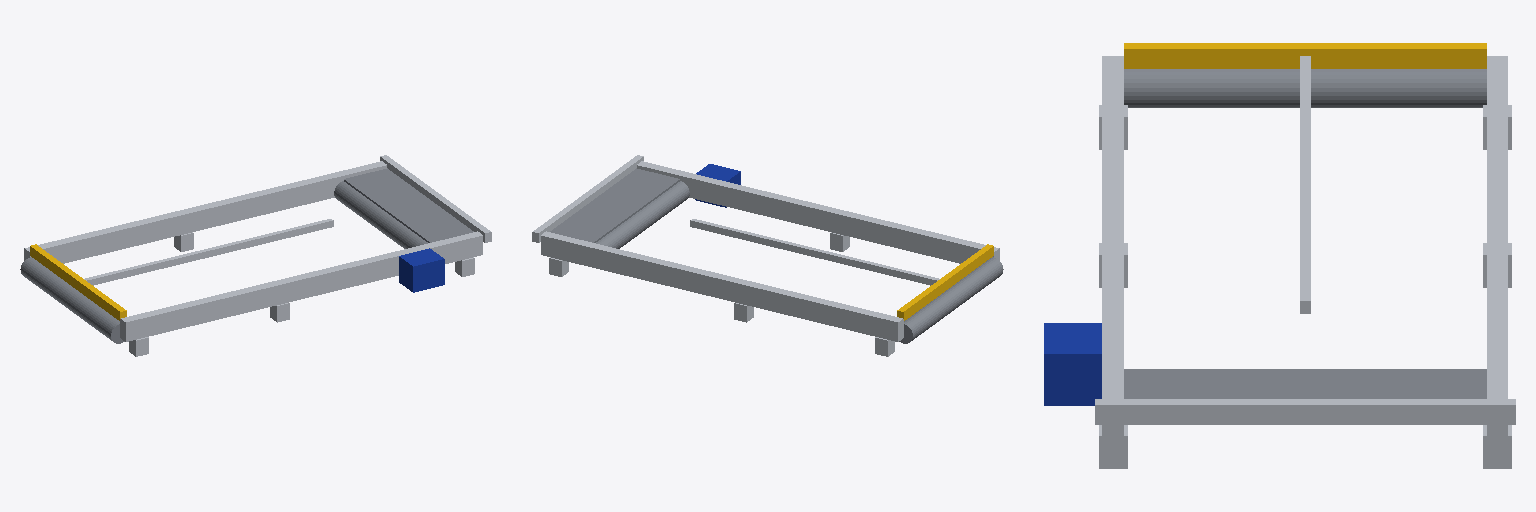
URDF robot description (conveyor):
<?xml version="1.0"?>
<!-- SPDX-License-Identifier: GPL-3.0-or-later OR LicenseRef-RobotIK-Commercial
     Copyright (c) 2020-2026 Quentin Quadrat
     Frame of the conveyor of the DualArm cell: two lanes split by a
     divider, an end stop on the near side, an infeed table on the far side.
     The belts of the lanes are not here: they are conveyor belts of the
     cell (fixed box bodies of the world file, x from 0.02 to 1.00).
     Base frame: origin on the floor at the middle of the end stop, x along
     the belt toward the infeed table, z up. The belt top is 0.10 m high. -->
<robot name="conveyor">
  <material name="steel"><color rgba="0.55 0.57 0.60 1"/></material>
  <material name="aluminium"><color rgba="0.78 0.80 0.83 1"/></material>
  <material name="yellow"><color rgba="0.95 0.75 0.10 1"/></material>
  <material name="blue"><color rgba="0.15 0.30 0.70 1"/></material>

  <link name="conveyor_base">
    <inertial>
      <origin xyz="0.5 0 0.05" rpy="0 0 0"/>
      <mass value="40.0"/>
      <inertia ixx="1.0" ixy="0.0" ixz="0.0" iyy="1.0" iyz="0.0" izz="1.0"/>
    </inertial>
    <visual>
      <!-- infeed_table -->
      <origin xyz="1.0700 0.0000 0.0950" rpy="0.0000 0.0000 0.0000"/>
      <geometry><box size="0.1400 0.5000 0.0100"/></geometry>
      <material name="steel"/>
    </visual>
    <collision>
      <!-- infeed_table -->
      <origin xyz="1.0700 0.0000 0.0950" rpy="0.0000 0.0000 0.0000"/>
      <geometry><box size="0.1400 0.5000 0.0100"/></geometry>
    </collision>
    <visual>
      <!-- back_stop -->
      <origin xyz="1.1500 0.0000 0.1050" rpy="0.0000 0.0000 0.0000"/>
      <geometry><box size="0.0200 0.5800 0.0300"/></geometry>
      <material name="aluminium"/>
    </visual>
    <collision>
      <!-- back_stop -->
      <origin xyz="1.1500 0.0000 0.1050" rpy="0.0000 0.0000 0.0000"/>
      <geometry><box size="0.0200 0.5800 0.0300"/></geometry>
    </collision>
    <visual>
      <!-- end_stop -->
      <origin xyz="0.0100 0.0000 0.1150" rpy="0.0000 0.0000 0.0000"/>
      <geometry><box size="0.0200 0.5000 0.0300"/></geometry>
      <material name="yellow"/>
    </visual>
    <collision>
      <!-- end_stop -->
      <origin xyz="0.0100 0.0000 0.1150" rpy="0.0000 0.0000 0.0000"/>
      <geometry><box size="0.0200 0.5000 0.0300"/></geometry>
    </collision>
    <visual>
      <!-- divider -->
      <origin xyz="0.4200 0.0000 0.1100" rpy="0.0000 0.0000 0.0000"/>
      <geometry><box size="0.8000 0.0150 0.0200"/></geometry>
      <material name="aluminium"/>
    </visual>
    <collision>
      <!-- divider -->
      <origin xyz="0.4200 0.0000 0.1100" rpy="0.0000 0.0000 0.0000"/>
      <geometry><box size="0.8000 0.0150 0.0200"/></geometry>
    </collision>
    <visual>
      <!-- side_left -->
      <origin xyz="0.5700 -0.2650 0.0800" rpy="0.0000 0.0000 0.0000"/>
      <geometry><box size="1.1400 0.0300 0.0600"/></geometry>
      <material name="aluminium"/>
    </visual>
    <collision>
      <!-- side_left -->
      <origin xyz="0.5700 -0.2650 0.0800" rpy="0.0000 0.0000 0.0000"/>
      <geometry><box size="1.1400 0.0300 0.0600"/></geometry>
    </collision>
    <visual>
      <!-- leg -->
      <origin xyz="0.0500 -0.2650 0.0250" rpy="0.0000 0.0000 0.0000"/>
      <geometry><box size="0.0400 0.0400 0.0500"/></geometry>
      <material name="aluminium"/>
    </visual>
    <visual>
      <!-- leg -->
      <origin xyz="0.5000 -0.2650 0.0250" rpy="0.0000 0.0000 0.0000"/>
      <geometry><box size="0.0400 0.0400 0.0500"/></geometry>
      <material name="aluminium"/>
    </visual>
    <visual>
      <!-- leg -->
      <origin xyz="1.0900 -0.2650 0.0250" rpy="0.0000 0.0000 0.0000"/>
      <geometry><box size="0.0400 0.0400 0.0500"/></geometry>
      <material name="aluminium"/>
    </visual>
    <visual>
      <!-- side_right -->
      <origin xyz="0.5700 0.2650 0.0800" rpy="0.0000 0.0000 0.0000"/>
      <geometry><box size="1.1400 0.0300 0.0600"/></geometry>
      <material name="aluminium"/>
    </visual>
    <collision>
      <!-- side_right -->
      <origin xyz="0.5700 0.2650 0.0800" rpy="0.0000 0.0000 0.0000"/>
      <geometry><box size="1.1400 0.0300 0.0600"/></geometry>
    </collision>
    <visual>
      <!-- leg -->
      <origin xyz="0.0500 0.2650 0.0250" rpy="0.0000 0.0000 0.0000"/>
      <geometry><box size="0.0400 0.0400 0.0500"/></geometry>
      <material name="aluminium"/>
    </visual>
    <visual>
      <!-- leg -->
      <origin xyz="0.5000 0.2650 0.0250" rpy="0.0000 0.0000 0.0000"/>
      <geometry><box size="0.0400 0.0400 0.0500"/></geometry>
      <material name="aluminium"/>
    </visual>
    <visual>
      <!-- leg -->
      <origin xyz="1.0900 0.2650 0.0250" rpy="0.0000 0.0000 0.0000"/>
      <geometry><box size="0.0400 0.0400 0.0500"/></geometry>
      <material name="aluminium"/>
    </visual>
    <visual>
      <!-- roller -->
      <origin xyz="0.0000 0.0000 0.0640" rpy="1.5708 0.0000 0.0000"/>
      <geometry><cylinder radius="0.0300" length="0.5000"/></geometry>
      <material name="steel"/>
    </visual>
    <visual>
      <!-- roller -->
      <origin xyz="1.0000 0.0000 0.0640" rpy="1.5708 0.0000 0.0000"/>
      <geometry><cylinder radius="0.0300" length="0.5000"/></geometry>
      <material name="steel"/>
    </visual>
    <visual>
      <!-- motor -->
      <origin xyz="0.9200 -0.3200 0.0700" rpy="0.0000 0.0000 0.0000"/>
      <geometry><box size="0.1000 0.0800 0.0800"/></geometry>
      <material name="blue"/>
    </visual>
  </link>
</robot>

--- What the picture shows (computed from the rendered views, not written in the file) ---
The picture shows the robot from 3 angles, left to right: view 1: azimuth 30°, elevation 25°; view 2: azimuth 150°, elevation 25°; view 3: azimuth 270°, elevation 25°; orthographic projection.
Robot: conveyor — 1 links, 0 joints (none); root link conveyor_base; default pose: all joints at 0.
Visible links, largest first — view 1: conveyor_base; view 2: conveyor_base; view 3: conveyor_base.
Boxes of the visible links, bbox=[...] form: conveyor_base: bbox=[20, 155, 491, 356]; conveyor_base: bbox=[532, 155, 1003, 356]; conveyor_base: bbox=[1044, 43, 1515, 468].
Size in the robot's own frame: 1.19 by 0.65 by 0.13 metres.
Geometry: primitives only (box / cylinder / sphere), no mesh files.
